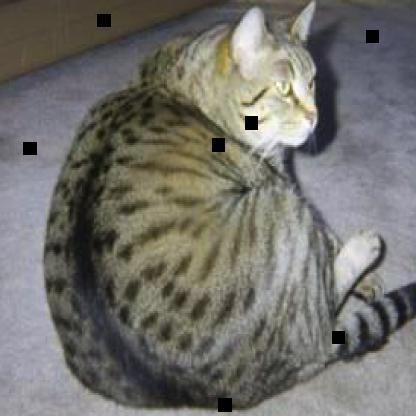cat: (44, 0, 415, 411)
